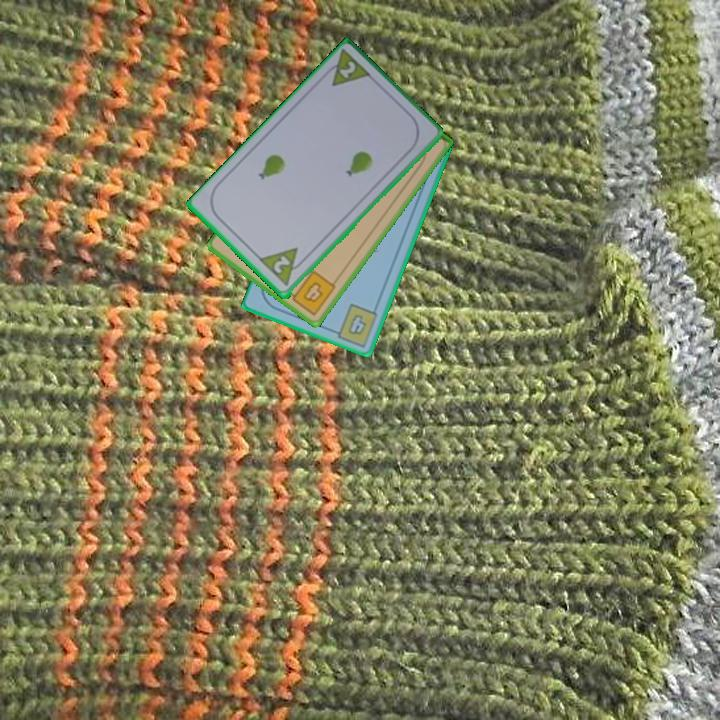2p: (335, 58, 359, 82), (270, 252, 293, 277)
4b: (284, 267, 339, 319), (328, 300, 381, 349)
